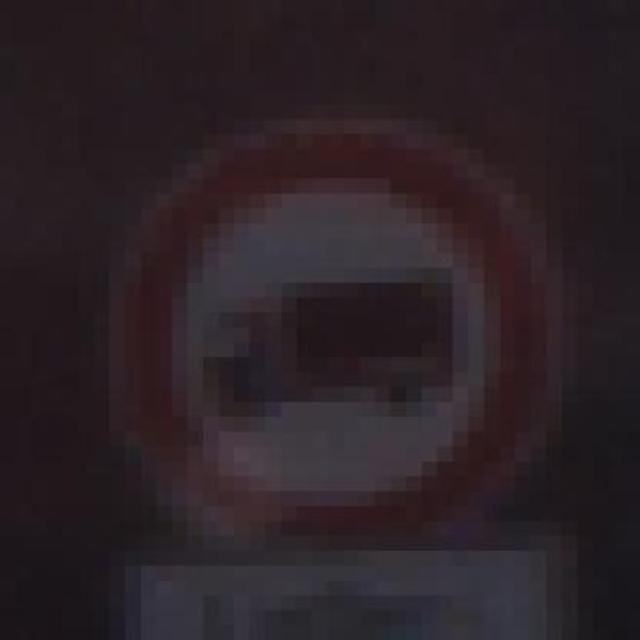Truck traffic is prohibited: (78, 74, 578, 566)
